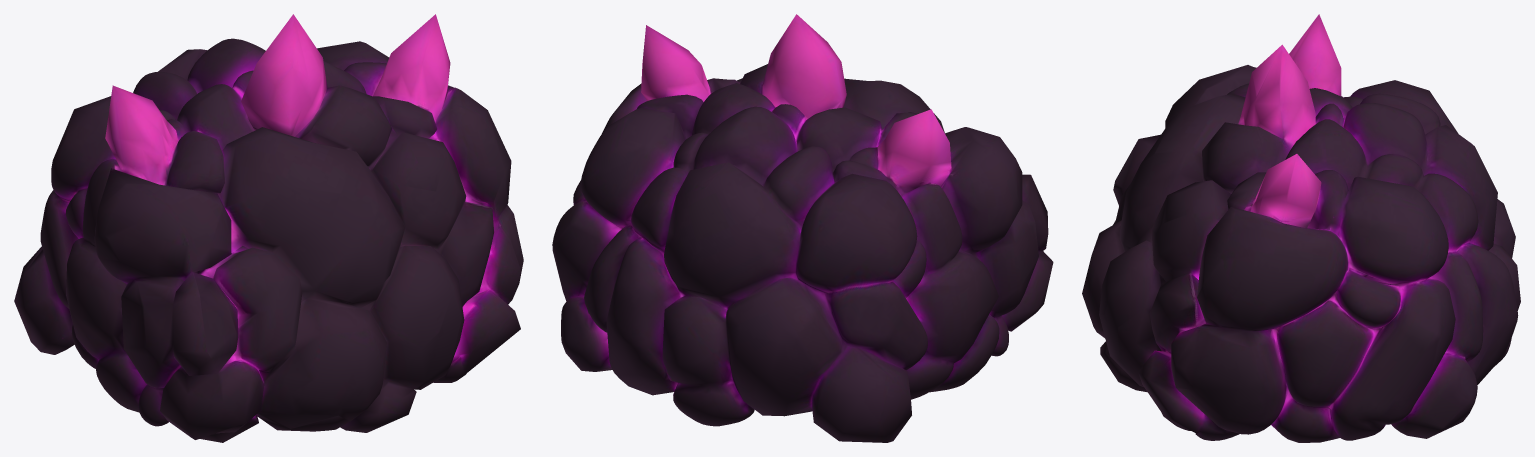
Rendered from yilan_govde.glb.
3 views of the same model, side by side, from view 1: azimuth 30°, elevation 25°; view 2: azimuth 150°, elevation 25°; view 3: azimuth 270°, elevation 25° (orthographic). The views are drawn at different scales.
Visible parts, largest first — view 1: material; view 2: material; view 3: material.
Boxes of the visible parts, <box> form: material: <box>14,14,523,442</box>; material: <box>552,14,1053,442</box>; material: <box>1082,14,1520,442</box>.
Size of the model in its own units: 1.9 by 1.6 by 1.86.
Materials: 1 (1 with a texture image).
